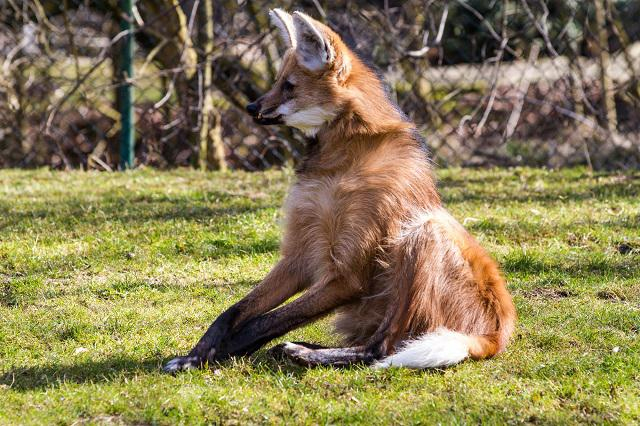LoboGuara: (165, 6, 531, 378)
